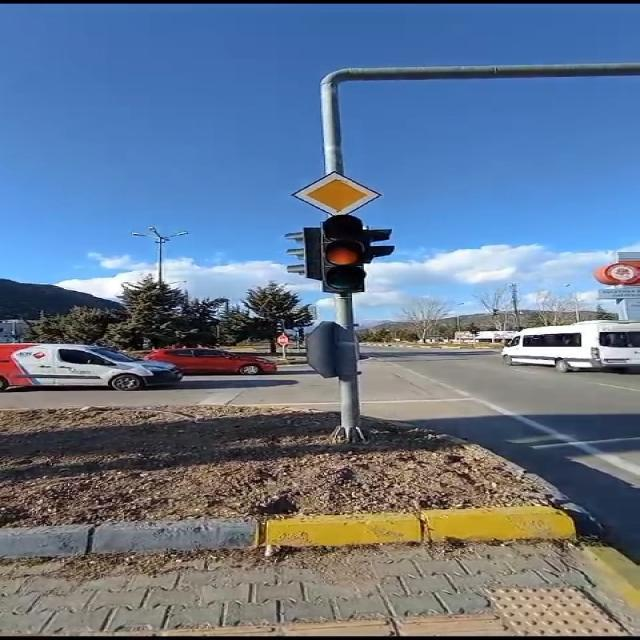sari: (323, 215, 395, 293)
